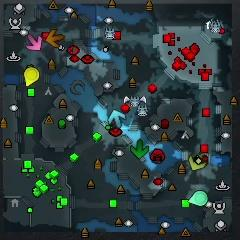p2: (187, 190, 208, 206)
p4: (24, 67, 39, 86)
x1: (27, 34, 42, 51)
x2: (189, 153, 206, 171)
x3: (109, 109, 126, 128)
x4: (130, 139, 149, 158)
x5: (46, 30, 64, 47)
